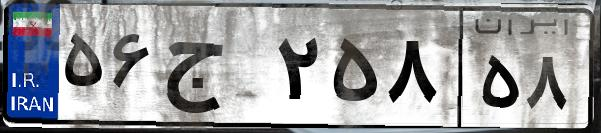2: (270, 28, 330, 110)
5: (330, 28, 385, 110), (57, 26, 110, 100), (475, 38, 525, 113)
6: (110, 28, 158, 98)
8: (385, 28, 445, 110), (525, 38, 570, 115)
ج: (158, 20, 270, 120)
